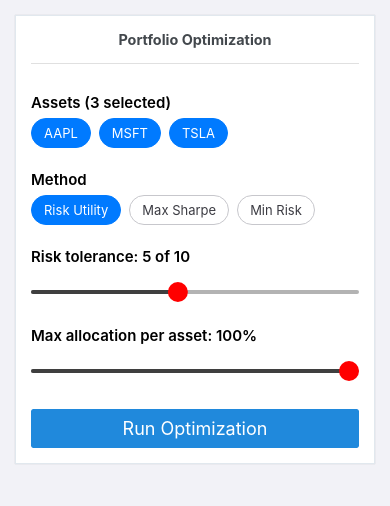
Test: OptimizationScreen › shows the backend error message
Expected: the text "Assets (3 selected)" is shown, [31,93,171,112]
Click the button "Run Optimization". click: [195, 428]
box: [31,409,359,448]
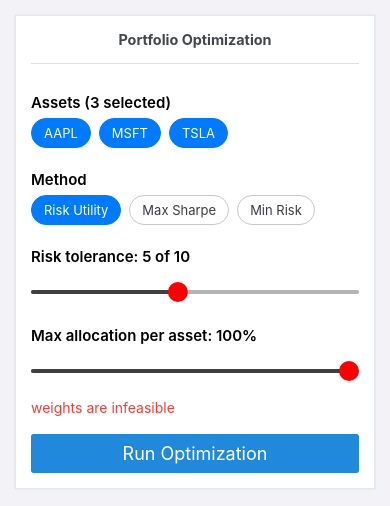
Result: the text "weights are infeasible" is shown at [31,399,175,416]
